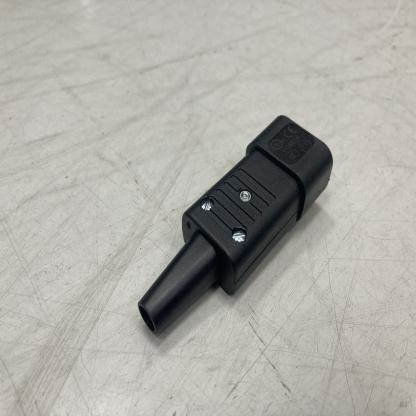SP0000004: (61, 62, 366, 362)
